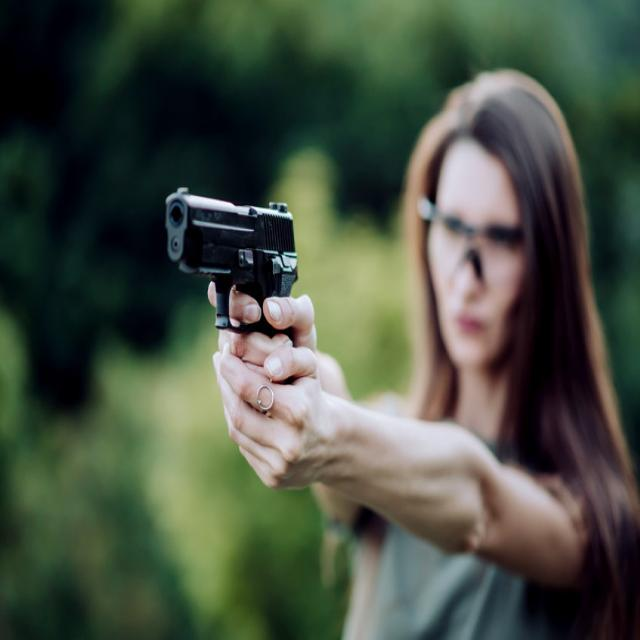HandGun: (165, 187, 298, 340)
